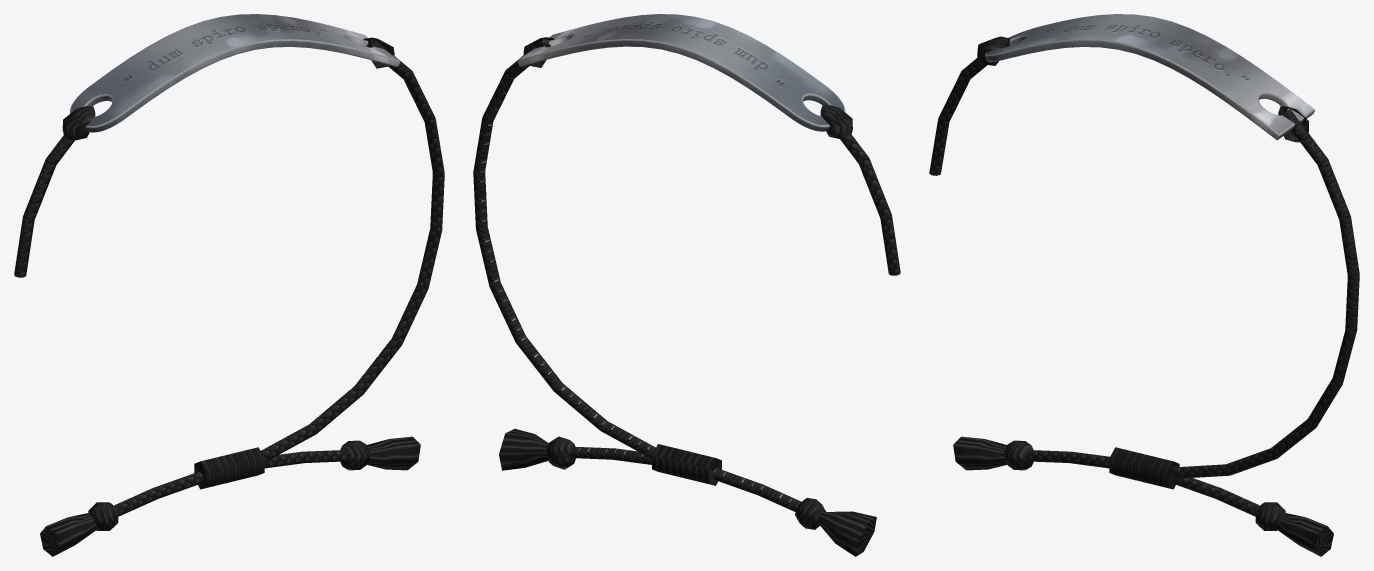
Rendered from DumSpiroSperoSilverBlackPotongan.obj.
The picture shows the model from 3 angles, left to right: view 1: azimuth 30°, elevation 25°; view 2: azimuth 150°, elevation 25°; view 3: azimuth 330°, elevation 25°; orthographic projection.
Parts seen in each view (by area): view 1: DumSpiroSperoSilverBlack, coloredBand1, coloredBand, cylinder, cylinder3, cylinder2, Knot1, Knot2, Knot4; view 2: DumSpiroSperoSilverBlack, coloredBand1, coloredBand, cylinder, cylinder3, cylinder2, Knot1, Knot2, Knot4; view 3: DumSpiroSperoSilverBlack, coloredBand1, coloredBand, cylinder, cylinder2, cylinder3, Knot4, Knot2.
Part boxes in pixels (x1,y1,x2,y2): DumSpiroSperoSilverBlack: (70,14,400,132); coloredBand1: (114,39,444,516); coloredBand: (14,135,347,468); cylinder: (194,447,264,489); cylinder3: (40,512,97,556); cylinder2: (367,436,420,470); Knot1: (62,106,95,140); Knot2: (340,440,370,470); Knot4: (88,502,118,530); DumSpiroSperoSilverBlack: (517,14,845,131); coloredBand1: (473,38,801,511); coloredBand: (571,134,900,464); cylinder: (652,444,721,485); cylinder3: (818,511,876,556); cylinder2: (499,428,548,470); Knot1: (820,105,852,139); Knot2: (547,436,575,469); Knot4: (795,498,825,529); DumSpiroSperoSilverBlack: (985,14,1315,140); coloredBand1: (1026,109,1359,478); coloredBand: (929,58,1259,516); cylinder: (1109,447,1179,489); cylinder2: (1276,512,1333,556); cylinder3: (953,436,1006,470); Knot4: (1003,440,1033,470); Knot2: (1255,502,1285,530).
Bounding box in the file's own units: 8.28 × 8.87 × 1.2.
11 materials, 10 textured.
